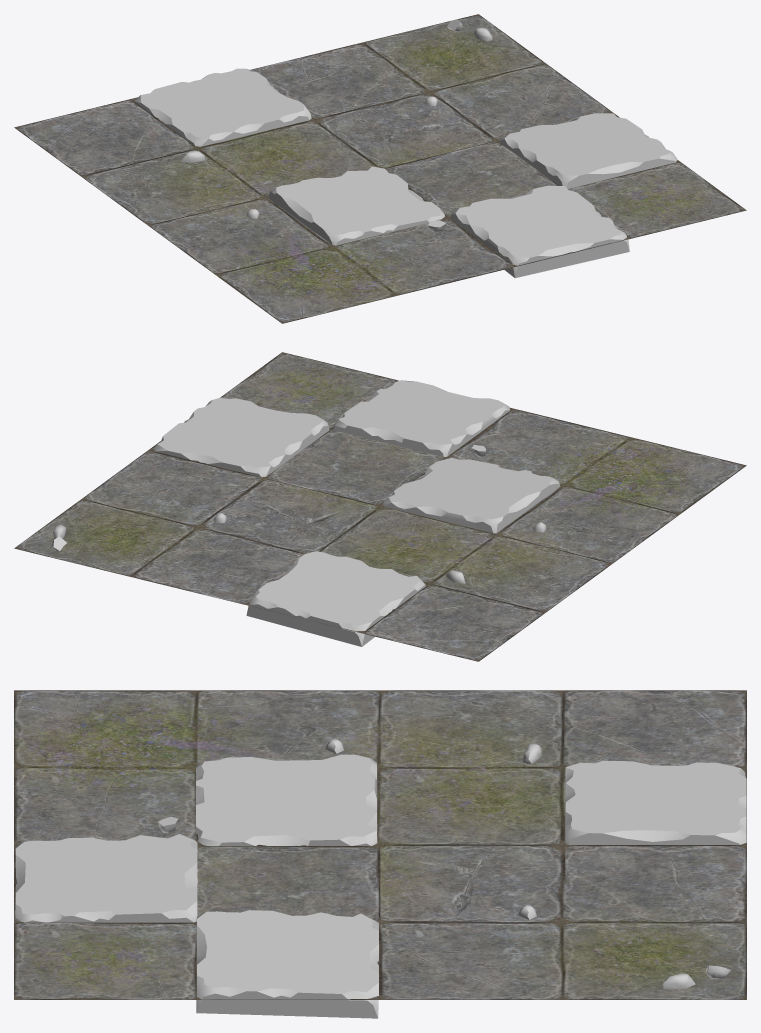
The model's file is Floor_Lvl2_13.fbx.
3 renders of one model, top to bottom at view 1: azimuth 30°, elevation 25°; view 2: azimuth 150°, elevation 25°; view 3: azimuth 270°, elevation 25°, orthographic. The views are drawn at different scales.
Parts seen in each view (by area): view 1: StoneFloor.002; view 2: StoneFloor.002; view 3: StoneFloor.002.
Boxes of the visible parts, left/top/right/bottom form: StoneFloor.002: left=14, top=14, right=746, bottom=323; StoneFloor.002: left=14, top=352, right=746, bottom=661; StoneFloor.002: left=14, top=690, right=746, bottom=1018.
Size of the model in its own units: 382 by 20.6 by 382.
